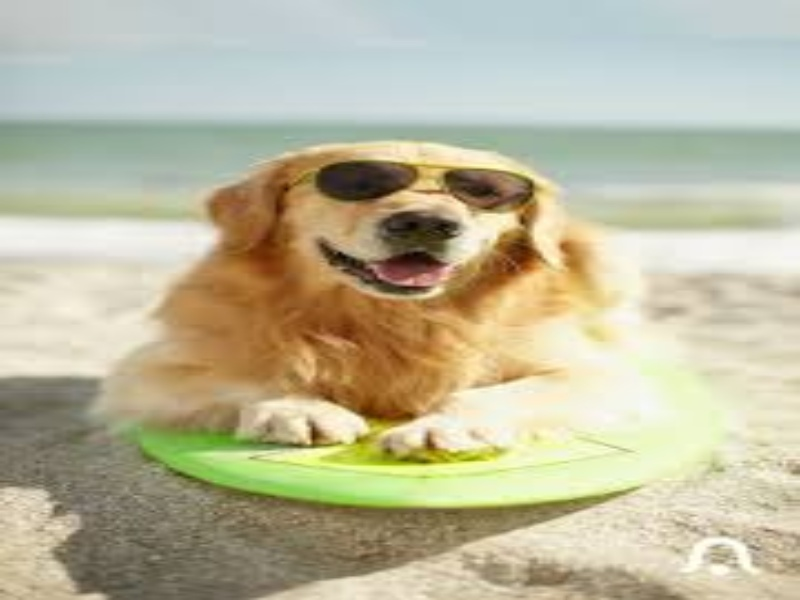dog: (102, 134, 713, 477)
